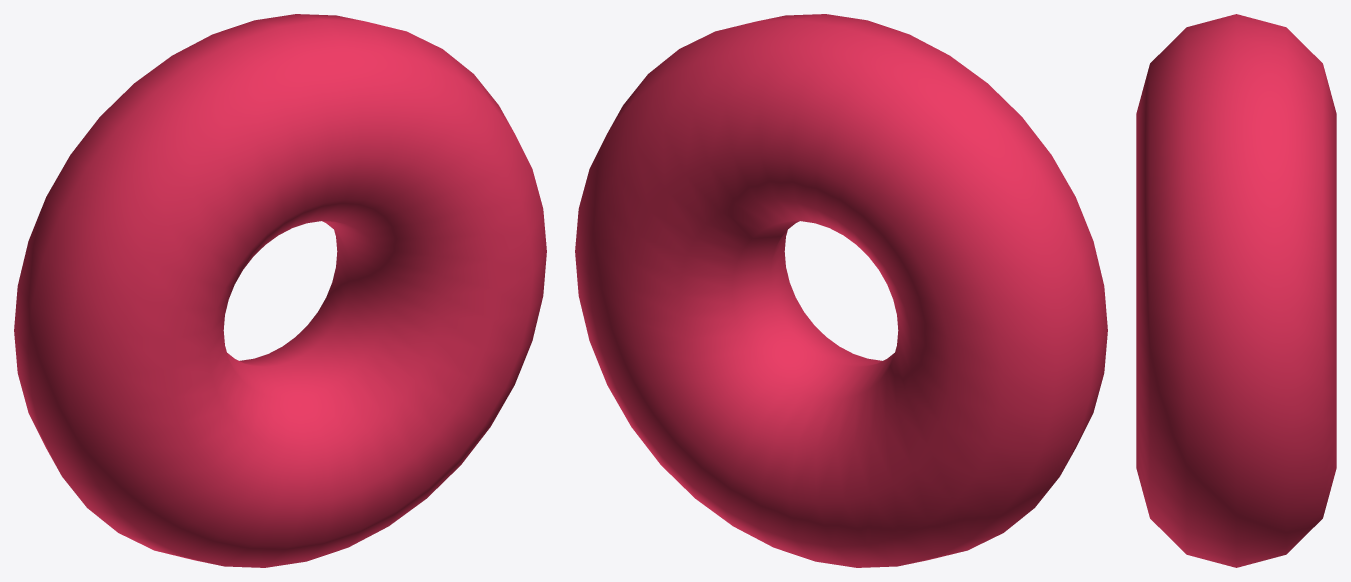
The model's file is DonutBubble.fbx.
3 views of the same model, side by side, from view 1: azimuth 30°, elevation 25°; view 2: azimuth 150°, elevation 25°; view 3: azimuth 270°, elevation 25° (orthographic). The views are drawn at different scales.
Parts seen in each view (by area): view 1: BubbleStar.005; view 2: BubbleStar.005; view 3: BubbleStar.005.
Part boxes in pixels (<box>): BubbleStar.005: <box>14,14,546,567</box>; BubbleStar.005: <box>575,14,1107,567</box>; BubbleStar.005: <box>1136,14,1336,567</box>.
Size of the model in its own units: 96.18 by 96.18 by 34.6.
